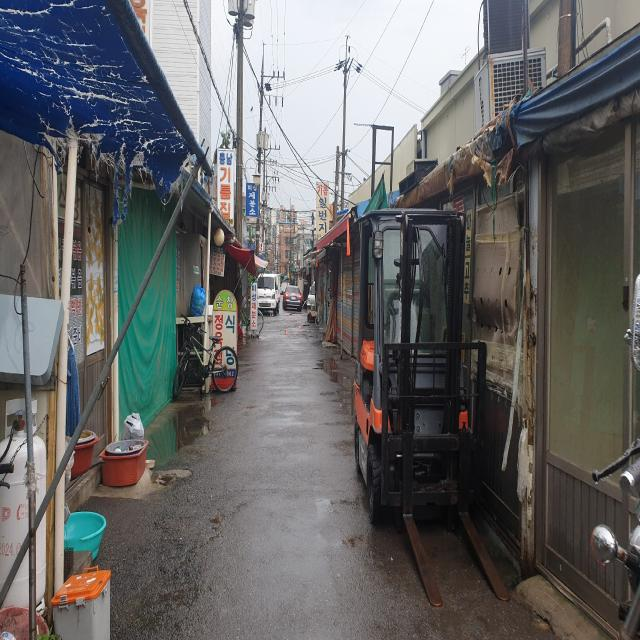car: (354, 208, 512, 606), (257, 274, 281, 315), (283, 285, 302, 312)
motorbike: (591, 273, 640, 640)
